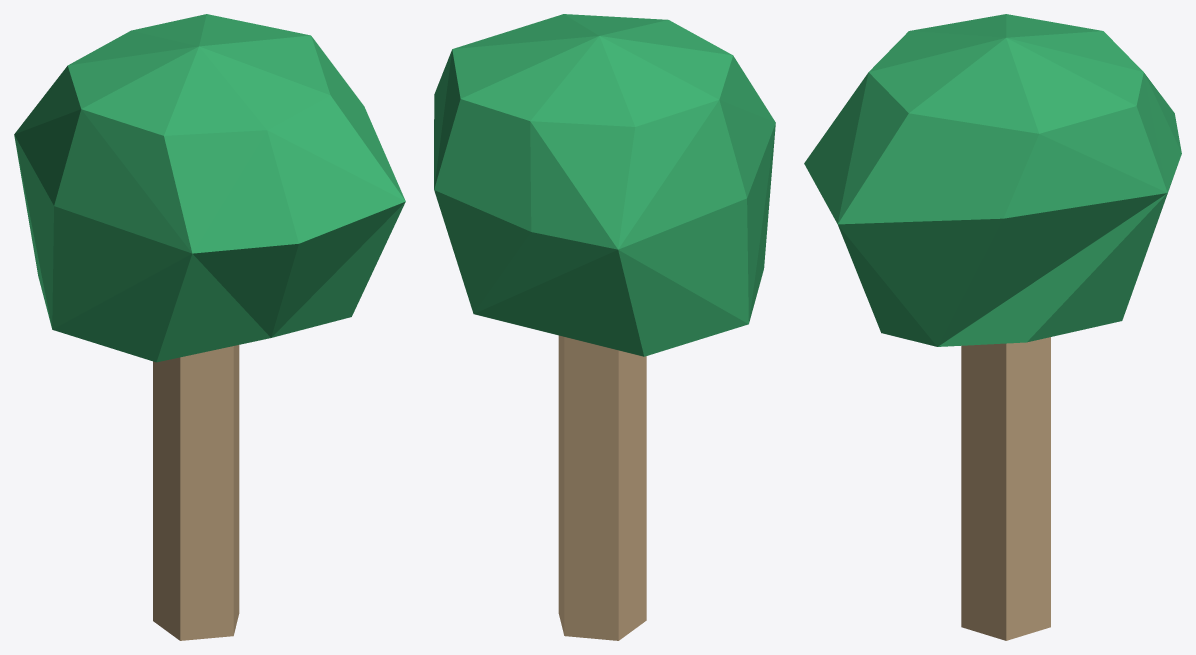
The model's file is tree_2.dae.
The picture shows the model from 3 angles, left to right: view 1: azimuth 30°, elevation 25°; view 2: azimuth 150°, elevation 25°; view 3: azimuth 270°, elevation 25°; orthographic projection.
Parts seen in each view (by area): view 1: group_0 (×2); view 2: group_0 (×2); view 3: group_0 (×2).
Part boxes in pixels (x1,y1,x2,y2): group_0 (×2): (14,14,405,640); group_0 (×2): (434,14,775,640); group_0 (×2): (804,14,1181,640).
Size of the model in its own units: 410 by 427 by 727.
